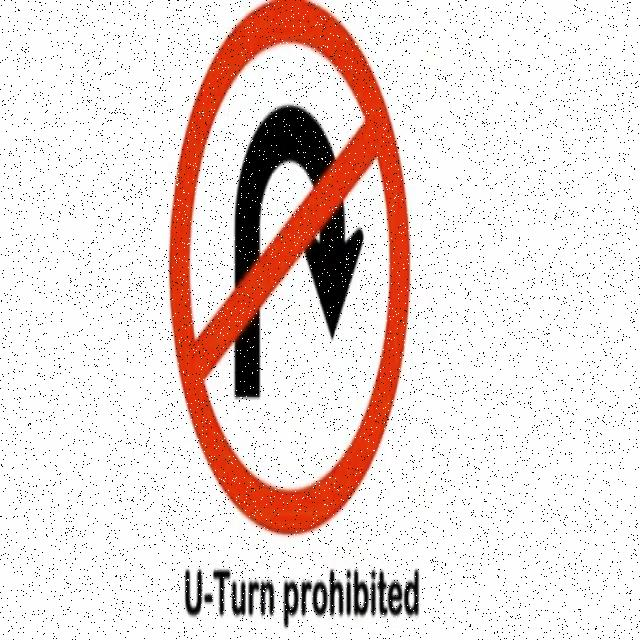no_uturn: (170, 4, 405, 525)
